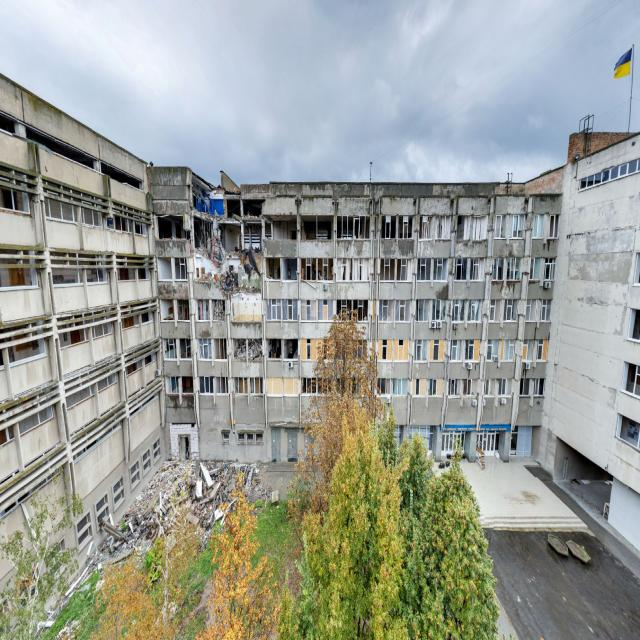broken_window: (200, 375, 264, 395), (336, 211, 375, 241), (335, 257, 371, 284), (457, 213, 489, 243), (615, 415, 640, 453), (414, 297, 449, 324), (419, 214, 452, 242), (452, 298, 484, 325), (417, 256, 450, 282), (377, 338, 411, 363), (300, 259, 335, 283), (265, 296, 298, 321), (379, 298, 412, 323), (380, 258, 415, 281), (382, 215, 415, 239), (414, 339, 445, 363), (197, 338, 229, 361), (377, 375, 409, 398), (454, 258, 486, 281), (267, 377, 301, 398), (622, 360, 640, 399), (162, 338, 195, 359), (300, 300, 332, 321), (412, 378, 443, 397), (165, 376, 194, 396), (336, 300, 370, 315), (300, 338, 322, 361), (627, 308, 640, 343), (499, 338, 516, 362), (449, 338, 464, 364), (465, 338, 480, 364), (504, 296, 518, 322), (511, 213, 525, 239), (507, 256, 522, 280), (356, 300, 370, 324), (498, 377, 513, 399), (522, 337, 535, 362), (495, 213, 507, 240), (486, 341, 502, 361), (463, 378, 478, 399), (484, 378, 498, 400), (493, 256, 505, 280), (536, 338, 548, 362), (448, 380, 463, 399), (490, 300, 502, 323), (302, 383, 319, 395)
building: (170, 181, 540, 465), (1, 77, 170, 609), (540, 133, 640, 554), (150, 164, 239, 461), (525, 163, 565, 465), (565, 128, 640, 163)
damage: (194, 253, 265, 338), (192, 181, 265, 253), (153, 207, 189, 244), (299, 213, 335, 243), (263, 257, 299, 281), (265, 215, 298, 241), (232, 337, 263, 364), (267, 338, 300, 362), (158, 257, 187, 282), (161, 297, 190, 322)
other: (0, 463, 640, 640), (301, 308, 426, 463)
